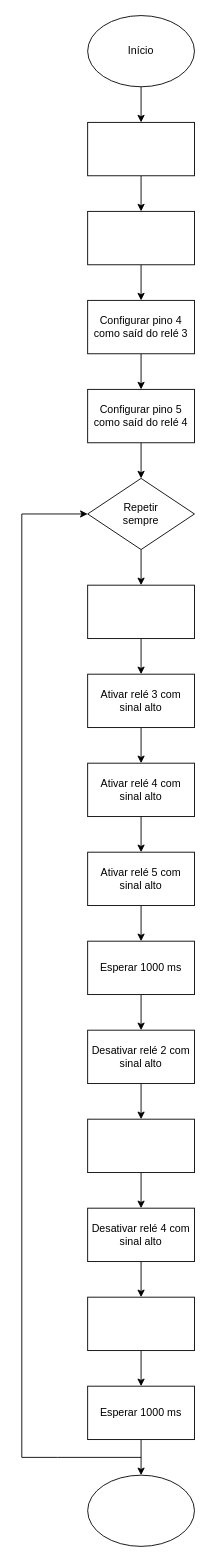
This 210x1562 diagram has some shape labels left out. The centre of each missing label's shape, as x and y in pixels:
"Ativar relé 2 com sinal alto" goes at point 140,611.
"Configurar pino 2 como saíd do relé 1" goes at point 140,148.
"Configurar pino 3 como saíd do relé 2" goes at point 140,237.
"Desativar relé 3 com sinal alto" goes at point 140,1145.
"Desativar relé 5 com sinal alto" goes at point 140,1323.
"Fim" goes at point 140,1510.
